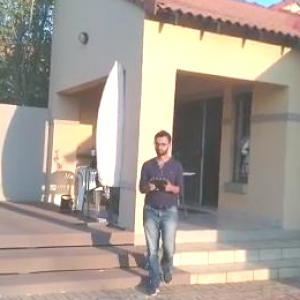follow: (135, 127, 186, 299)
